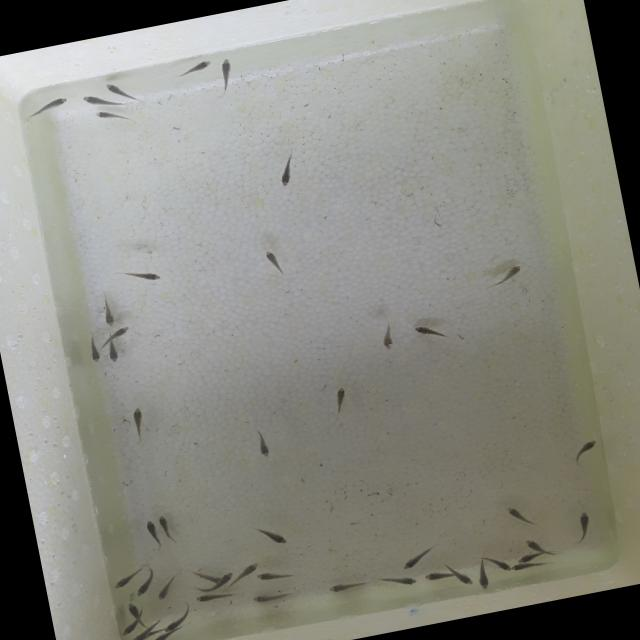fingerling: (114, 261, 166, 291), (20, 94, 73, 122), (484, 262, 529, 292), (270, 149, 303, 189), (250, 518, 290, 550), (92, 104, 138, 130), (168, 58, 214, 82), (126, 402, 152, 443), (504, 501, 537, 533), (192, 586, 238, 608), (160, 609, 197, 635), (568, 440, 602, 468), (396, 547, 434, 572), (255, 565, 298, 587), (250, 425, 277, 460), (570, 510, 596, 546), (324, 578, 370, 598), (104, 77, 142, 101), (214, 56, 238, 94), (262, 246, 288, 279), (518, 532, 556, 554), (409, 320, 447, 342), (379, 571, 418, 592), (155, 511, 179, 545), (250, 588, 294, 606), (78, 89, 110, 113), (329, 384, 352, 416), (98, 294, 119, 328), (419, 566, 455, 585), (187, 568, 221, 588), (152, 577, 178, 602), (84, 332, 104, 364), (378, 321, 398, 352), (474, 558, 492, 592), (485, 554, 512, 576), (134, 572, 158, 596), (142, 518, 161, 546), (454, 566, 478, 588), (111, 568, 135, 590), (235, 559, 260, 579), (104, 340, 122, 364), (122, 599, 144, 618), (514, 552, 542, 564), (511, 560, 536, 572), (119, 621, 138, 636), (220, 568, 237, 584), (113, 326, 133, 338), (129, 630, 152, 640), (149, 633, 171, 640)
